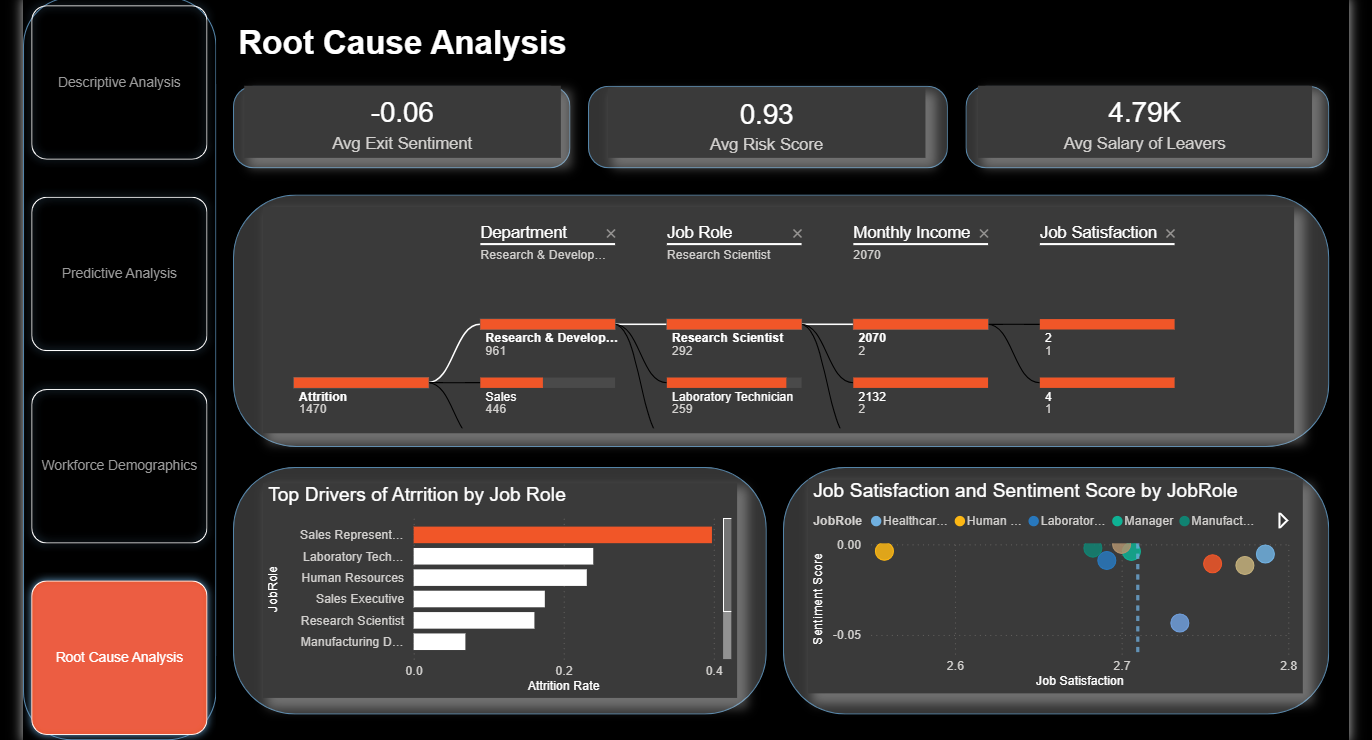

This screenshot's page, from the dashboard's own definition file:
{"tool":"powerbi","page":{"name":"Root Cause Analysis","canvas":[1280,720],"ordinal":3},"visuals":[{"type":"textbox","box":[202.7,21.3,1041.3,57.3],"z":2000},{"type":"shape","box":[742.7,485.3,501.3,197.3],"z":4000},{"type":"shape","box":[0,0,186.7,717.3],"z":5000},{"type":"shape","box":[213.3,485.3,502.7,197.3],"z":6000},{"type":"shape","box":[213.3,236,1030.7,226.7],"z":7000},{"type":"clusteredBarChart","title":"Top Drivers of Atrrition by JOb Role","fields":{"Category":["hr_project employee_data.JobRole"],"Y":["hr_project employee_data.Attrition Rate"]},"box":[236,254.7,977.3,184],"z":8000},{"type":"scatterChart","fields":{"X":["Avg(hr_project employee_data.JobSatisfaction)"],"Y":["Avg(hr_project ml_scores.SentimentScore)"],"Series":["hr_project employee_data.JobRole"]},"box":[773.3,498.7,449.3,172],"z":9000},{"type":"pivotTable","fields":{"Rows":["hr_project employee_data.Department","hr_project employee_data.JobRole","hr_project employee_data.WorkLifeBalance"],"Values":["hr_project employee_data.Attrition Rate"]},"box":[224,508,474.7,152],"z":10000},{"type":"shape","box":[202.7,100,325.3,109.3],"z":11000},{"type":"shape","box":[545.3,100,342.7,109.3],"z":13000},{"type":"shape","box":[908,100,336,109.3],"z":14000},{"type":"card","fields":{"Values":["Avg(hr_project ml_scores.FlightRiskScore)"]},"box":[565.3,109.3,294.7,93.3],"z":14250},{"type":"card","fields":{"Values":["Avg(hr_project ml_scores.SentimentScore)"]},"box":[213.3,112,294.7,90.7],"z":14375},{"type":"card","fields":{"Values":["Avg(hr_project employee_data.MonthlyIncome)"]},"box":[920,110.7,313.3,92],"z":14500},{"type":"pageNavigator","box":[0,0,186.7,720],"z":15000}]}

Visuals, with their boxes on the page's 1280x720 design canvas (x1, y1, x2, y2). These are canvas units, not pixel positions in the 1372x740 screenshot, which may show the page scaled, cropped or inside an application window:
textbox: crop(203, 21, 1244, 79)
shape: crop(743, 485, 1244, 683)
shape: crop(0, 0, 187, 717)
shape: crop(213, 485, 716, 683)
shape: crop(213, 236, 1244, 463)
"Top Drivers of Atrrition by JOb Role" clusteredBarChart: crop(236, 255, 1213, 439)
scatterChart - Avg(hr_project employee_data.JobSatisfaction) x Avg(hr_project ml_scores.SentimentScore): crop(773, 499, 1223, 671)
pivotTable - hr_project employee_data.Department x hr_project employee_data.JobRole: crop(224, 508, 699, 660)
shape: crop(203, 100, 528, 209)
shape: crop(545, 100, 888, 209)
shape: crop(908, 100, 1244, 209)
card - Avg(hr_project ml_scores.FlightRiskScore): crop(565, 109, 860, 203)
card - Avg(hr_project ml_scores.SentimentScore): crop(213, 112, 508, 203)
card - Avg(hr_project employee_data.MonthlyIncome): crop(920, 111, 1233, 203)
pageNavigator: crop(0, 0, 187, 720)
